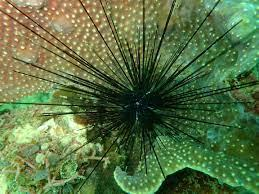urchin: (5, 5, 259, 171)
